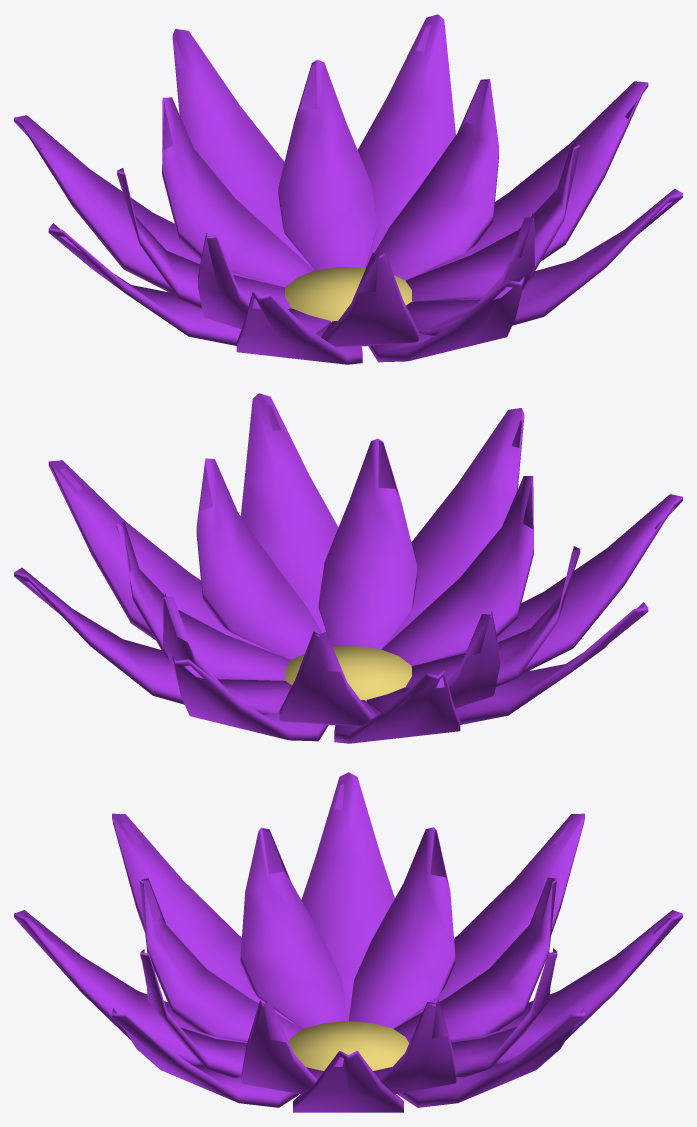
File: fleur_pointue.glb
3 views of the same model, one above another, from view 1: azimuth 30°, elevation 25°; view 2: azimuth 150°, elevation 25°; view 3: azimuth 270°, elevation 25° (orthographic). The views are drawn at different scales.
Parts seen in each view (by area): view 1: Cube.001; view 2: Cube.001; view 3: Cube.001.
Part boxes in pixels (bbox=[...]): Cube.001: bbox=[14, 14, 682, 364]; Cube.001: bbox=[14, 393, 682, 743]; Cube.001: bbox=[14, 772, 682, 1112].
Bounding box in the file's own units: 6.29 × 1.53 × 6.29.
